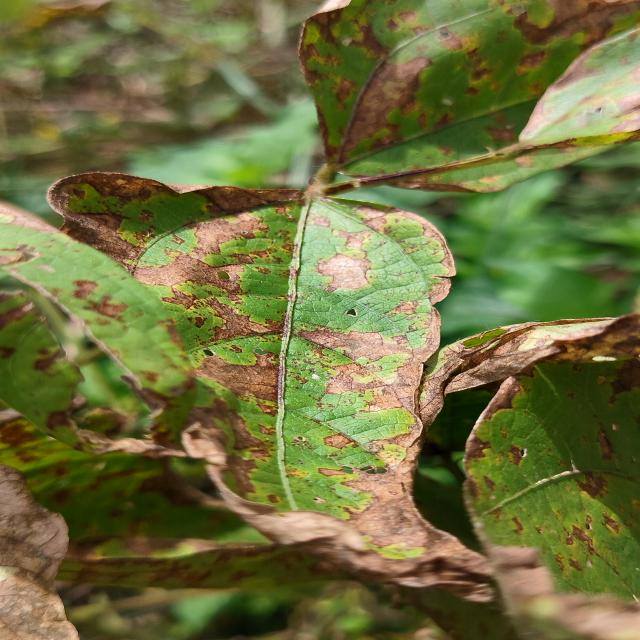Black gram_leaf spot: (49, 168, 585, 640), (298, 0, 639, 193)
